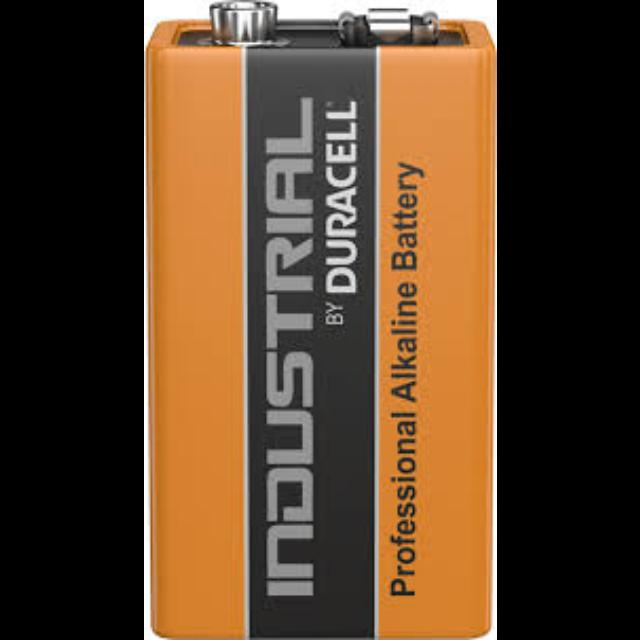Battery: (143, 0, 497, 640)
